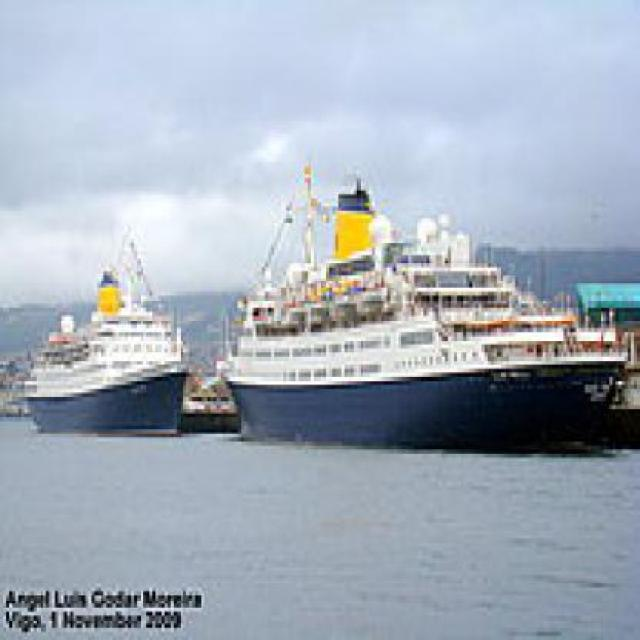cruise: (217, 163, 633, 480), (20, 228, 200, 451)
